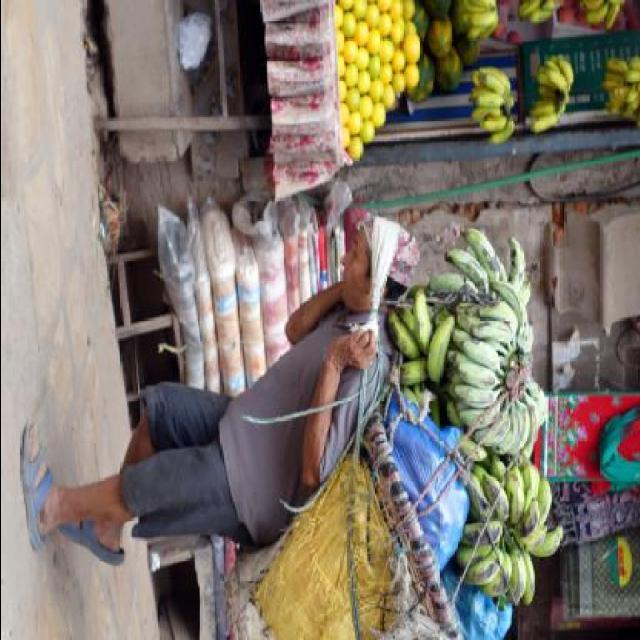Banana: (382, 224, 564, 610), (529, 53, 571, 133), (467, 68, 513, 140), (597, 55, 640, 123), (460, 0, 498, 42), (582, 1, 608, 24), (604, 0, 622, 29), (525, 10, 553, 24), (520, 0, 541, 18), (581, 0, 605, 12), (541, 0, 563, 12)
